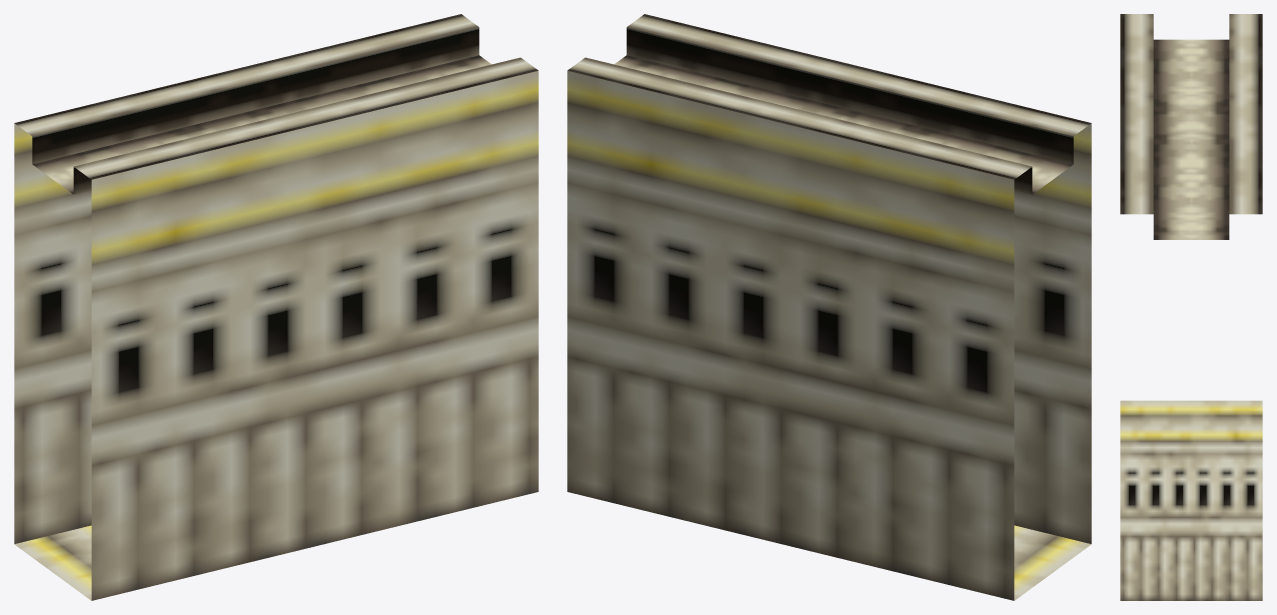
Rendered from Poly_World_Map_Wall_01.obj.
3 views of the same model, side by side, from view 1: azimuth 30°, elevation 25°; view 2: azimuth 150°, elevation 25°; view 3: azimuth 270°, elevation 25° (orthographic). The views are drawn at different scales.
Parts seen in each view (by area): view 1: Grid.001; view 2: Grid.001; view 3: Grid.001.
Boxes of the visible parts, x1,y1,x2,y2 form: Grid.001: [14, 14, 538, 600]; Grid.001: [567, 14, 1091, 600]; Grid.001: [1120, 14, 1262, 600].
Size of the model in its own units: 1 by 0.9 by 0.3.
1 material, 1 textured.
